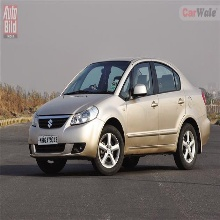no damage: (29, 59, 212, 175)
